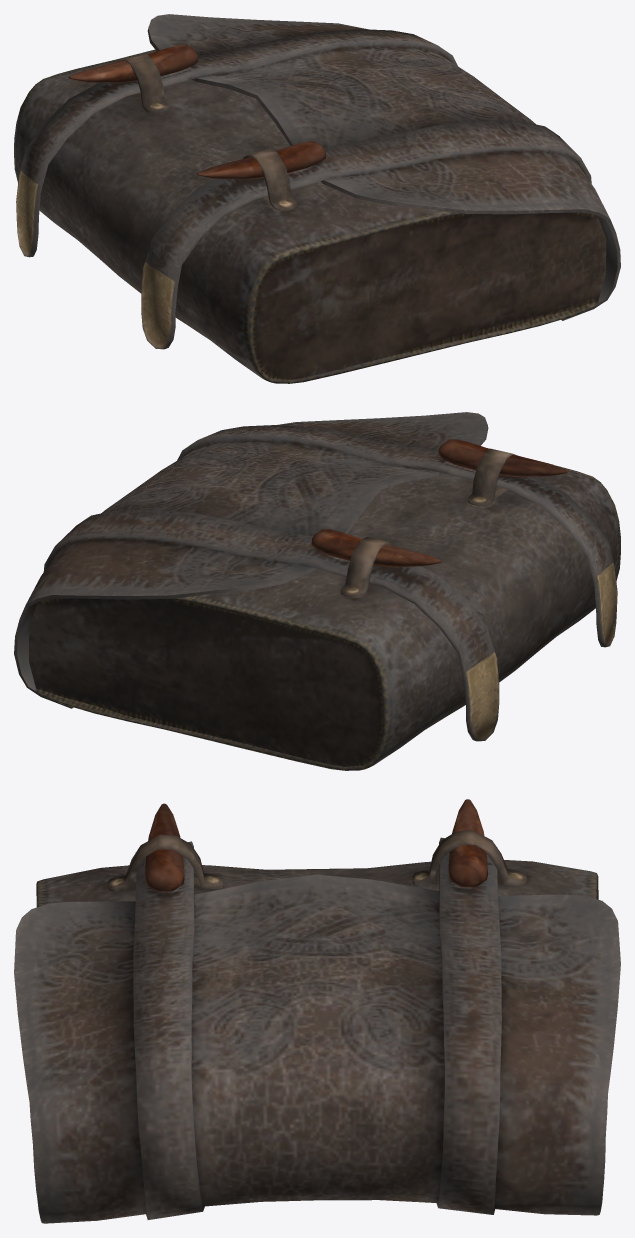
File: dunland_prop_wulf_bag_a.fbx
3 renders of one model, top to bottom at view 1: azimuth 30°, elevation 25°; view 2: azimuth 150°, elevation 25°; view 3: azimuth 270°, elevation 25°, orthographic. The views are drawn at different scales.
Parts seen in each view (by area): view 1: dunland_prop_wulf_bag_a; view 2: dunland_prop_wulf_bag_a; view 3: dunland_prop_wulf_bag_a.
Part boxes in pixels (box(x1,y1,x2,y2)): dunland_prop_wulf_bag_a: box(14, 14, 620, 383); dunland_prop_wulf_bag_a: box(14, 412, 620, 770); dunland_prop_wulf_bag_a: box(14, 799, 620, 1223).
Bounding box in the file's own units: 0.1979 × 0.2011 × 0.0851.
Materials: 1 (1 with a texture image).
